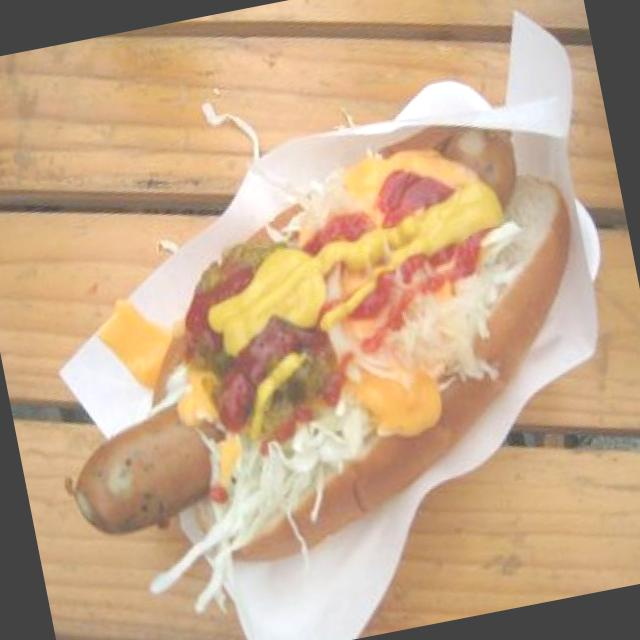Hot Dog: (30, 115, 630, 576)
